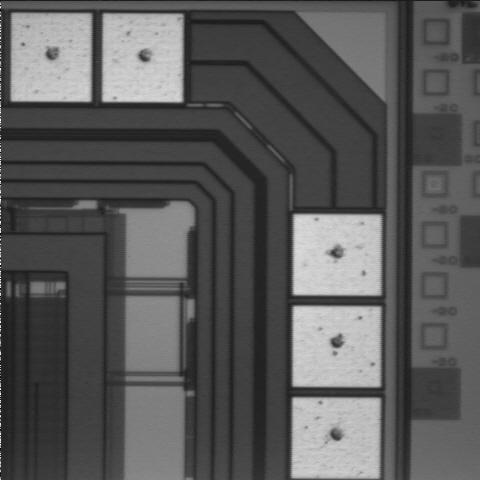pad: (294, 215, 381, 295), (293, 306, 380, 386), (292, 398, 379, 478), (103, 14, 182, 102), (12, 14, 91, 101)
